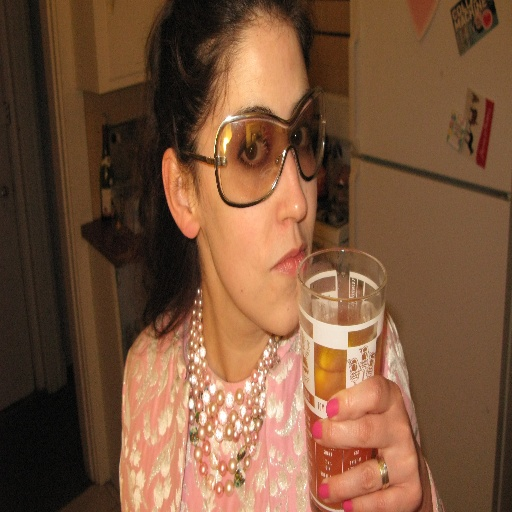hand: (324, 363, 433, 490)
